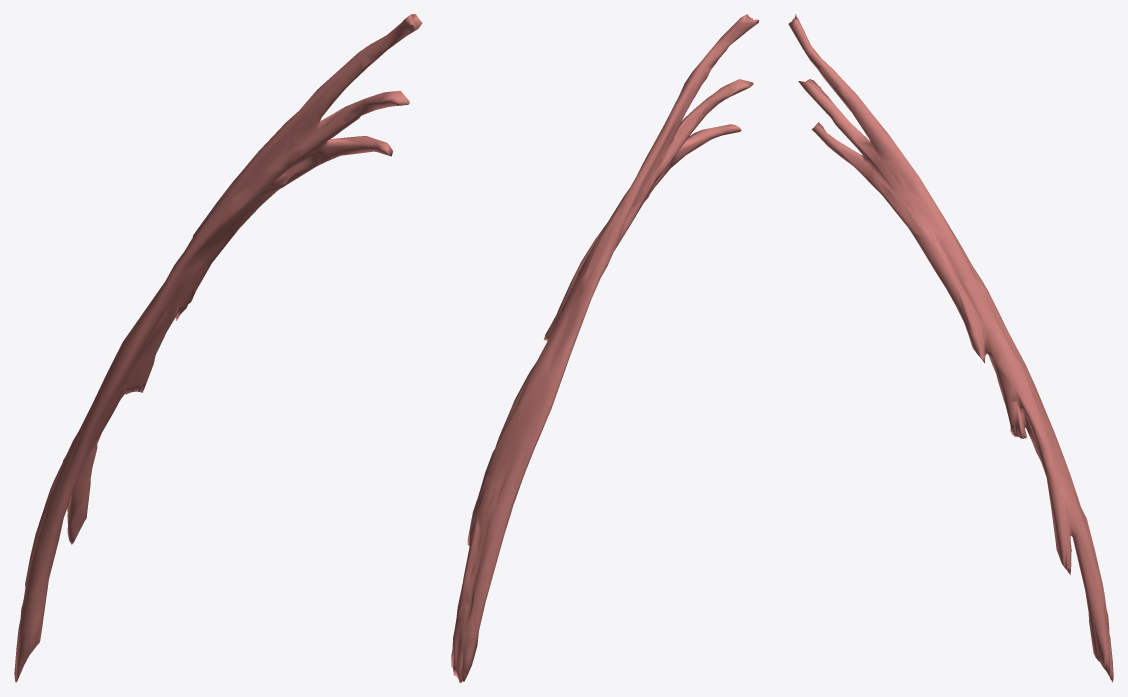
The picture shows the model from 3 angles, left to right: view 1: azimuth 90°, elevation 25°; view 2: azimuth 150°, elevation 25°; view 3: azimuth 270°, elevation 25°; orthographic projection. The views are drawn at different scales.
Visible parts, largest first — view 1: ZA_ad4d8464ab415080; view 2: ZA_ad4d8464ab415080; view 3: ZA_ad4d8464ab415080.
Part boxes in pixels (x1,y1,x2,y2): ZA_ad4d8464ab415080: (14, 14, 422, 682); ZA_ad4d8464ab415080: (451, 14, 759, 682); ZA_ad4d8464ab415080: (788, 14, 1113, 682).
Bounding box in the file's own units: 0.0504 × 0.1764 × 0.0869.
